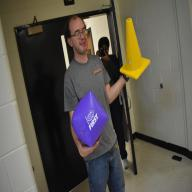cone: (119, 17, 151, 80)
cube: (71, 90, 109, 148)
